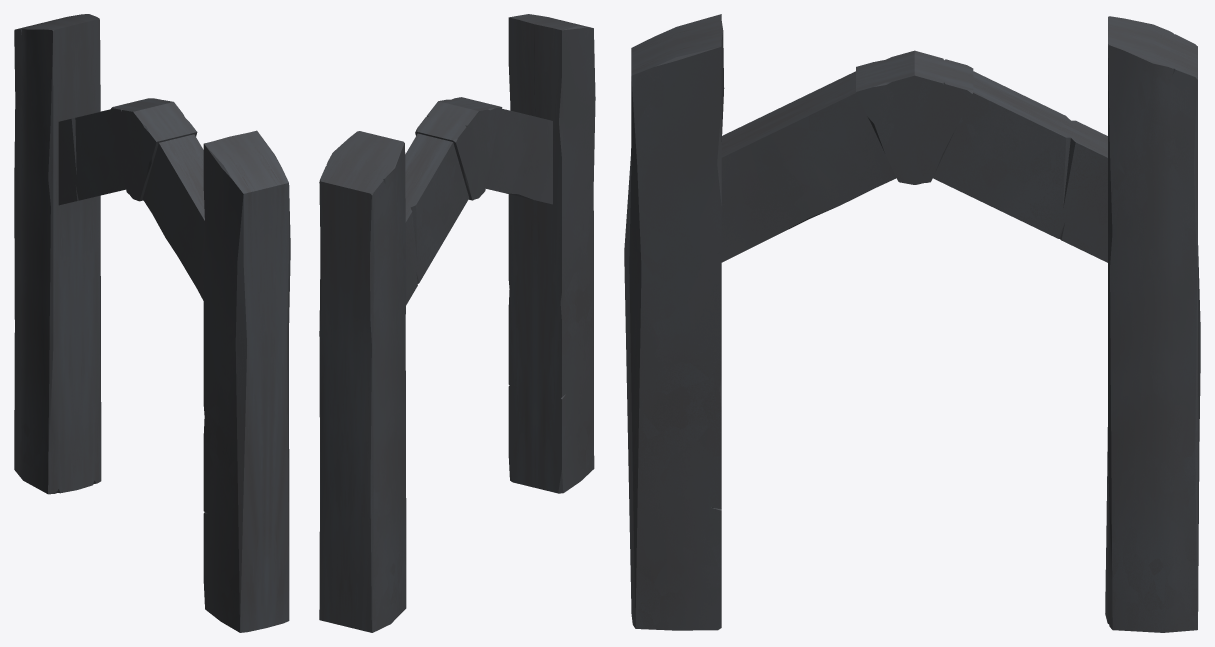
Rendered from ruins_gate.fbx.
3 views of the same model, side by side, from view 1: azimuth 30°, elevation 25°; view 2: azimuth 150°, elevation 25°; view 3: azimuth 270°, elevation 25° (orthographic). The views are drawn at different scales.
Parts seen in each view (by area): view 1: gate; view 2: gate; view 3: gate.
Boxes of the visible parts, x1,y1,x2,y2 form: gate: (14, 14, 290, 632); gate: (319, 14, 595, 632); gate: (624, 14, 1200, 632).
Size of the model in its own units: 70.46 by 500 by 448.
